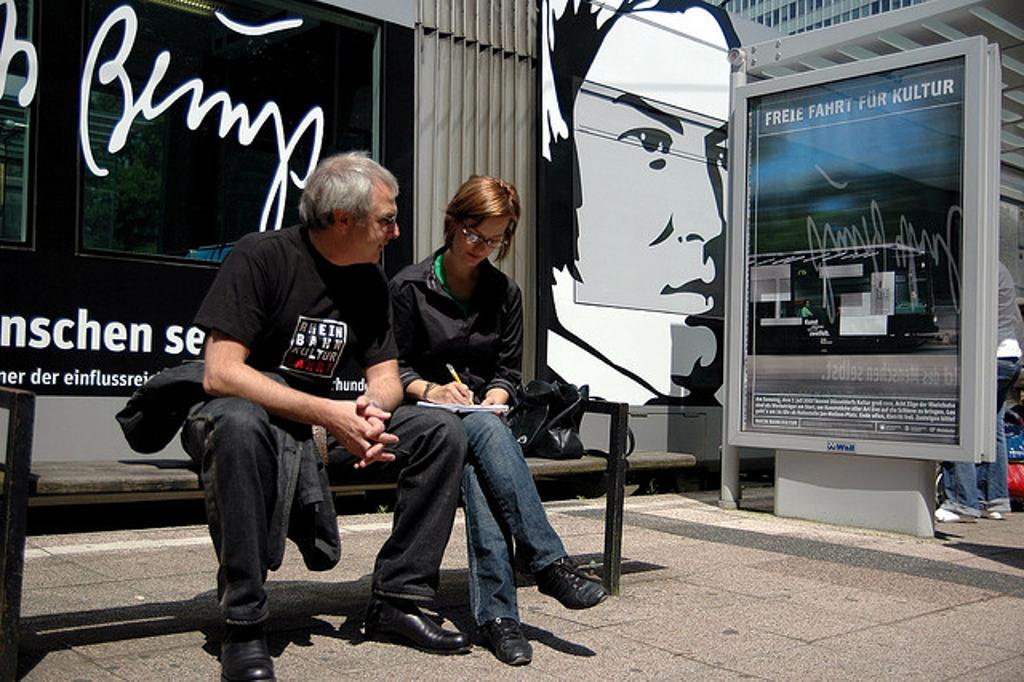face: (344, 176, 400, 272), (452, 190, 504, 274)
